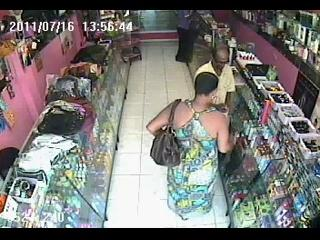Normal: (146, 72, 235, 224), (192, 42, 236, 114), (150, 99, 182, 168), (174, 11, 191, 64), (121, 46, 142, 66)
